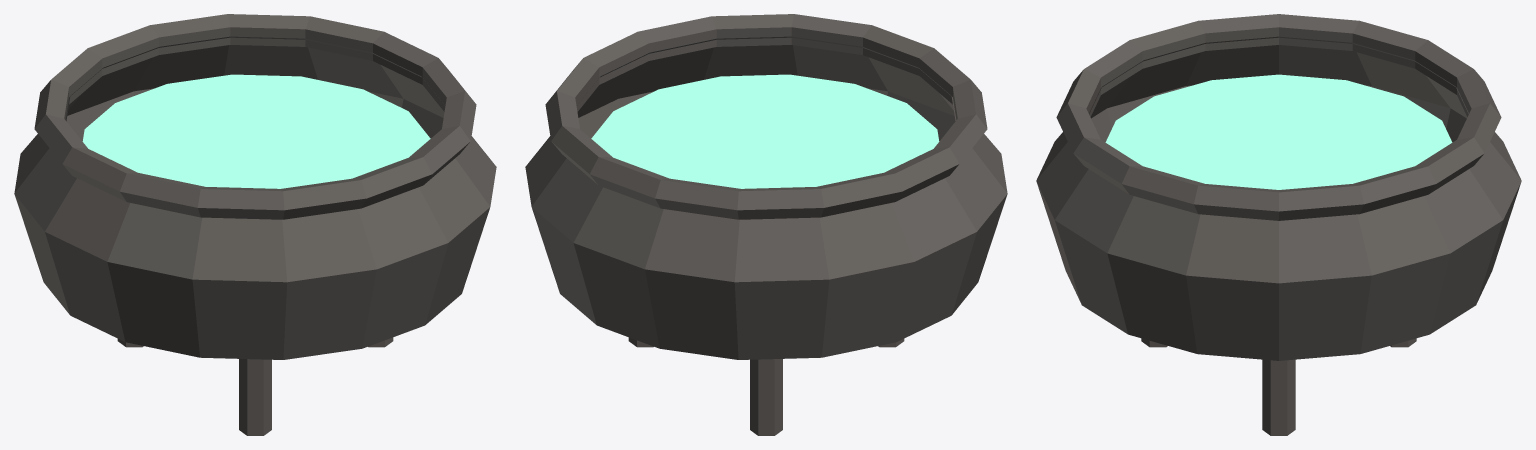
The model's file is cauldron_green.glb.
3 renders of one model, left to right at view 1: azimuth 30°, elevation 25°; view 2: azimuth 150°, elevation 25°; view 3: azimuth 270°, elevation 25°, orthographic.
Parts seen in each view (by area): view 1: cauldron_green; view 2: cauldron_green; view 3: cauldron_green.
Boxes of the visible parts, left/top/right/bottom form: cauldron_green: left=14, top=14, right=496, bottom=435; cauldron_green: left=525, top=14, right=1007, bottom=435; cauldron_green: left=1036, top=14, right=1521, bottom=435.
Bounding box in the file's own units: 1.32 × 0.8028 × 1.32.
